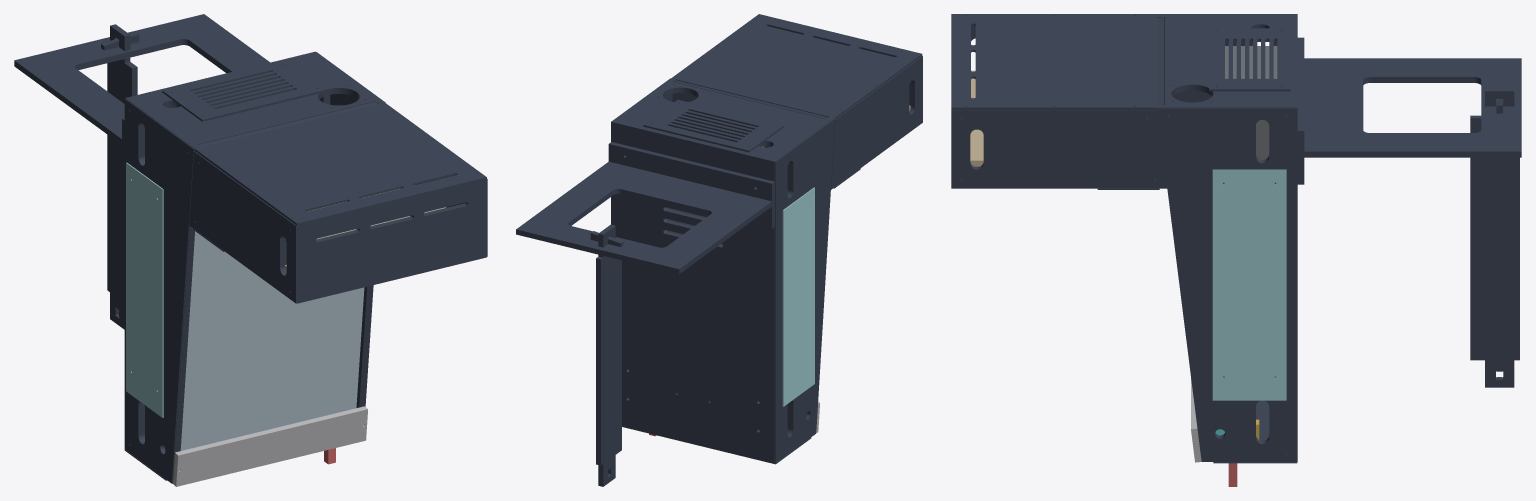
Rendered from cabinet.glb.
3 renders of one model, left to right at view 1: azimuth 30°, elevation 25°; view 2: azimuth 150°, elevation 25°; view 3: azimuth 270°, elevation 25°, orthographic. The views are drawn at different scales.
Visible parts, largest first — view 1: P09 Playfield glass, P25 Backbox back, P21 Backbox top, P30 Skin body side L, P26 Leg frame plate, P16 Side light panel L, P33 Skin backbox side L, P11 Lockbar, P06 Body back, P07 Back service cover, P28 Leg stretcher, P01 Body side L (+5 smaller); view 2: P03 Body floor, P25 Backbox back, P26 Leg frame plate, P30 Skin body side L, P16 Side light panel L, P33 Skin backbox side L, P28 Leg stretcher, P06 Body back, P07 Back service cover, P27 Leg top plate, P01 Body side L, P02 Body side R (+1 smaller); view 3: P31 Skin body side R, P25 Backbox back, P17 Side light panel R, P34 Skin backbox side R, P26 Leg frame plate, P28 Leg stretcher, P06 Body back, P07 Back service cover, Mini-ITX PC (NR200P class, on its side), P02 Body side R, P27 Leg top plate, P01 Body side L (+3 smaller).
Part boxes in pixels (<box>): P09 Playfield glass: <box>180,231,364,450</box>; P25 Backbox back: <box>195,102,486,225</box>; P21 Backbox top: <box>301,181,482,302</box>; P30 Skin body side L: <box>124,98,194,483</box>; P26 Leg frame plate: <box>14,14,269,144</box>; P16 Side light panel L: <box>126,162,163,417</box>; P33 Skin backbox side L: <box>189,151,296,303</box>; P11 Lockbar: <box>173,406,367,486</box>; P06 Body back: <box>134,55,376,144</box>; P07 Back service cover: <box>162,60,325,121</box>; P28 Leg stretcher: <box>107,24,137,329</box>; P01 Body side L: <box>125,96,200,483</box>; P03 Body floor: <box>614,121,772,462</box>; P25 Backbox back: <box>671,14,922,118</box>; P26 Leg frame plate: <box>516,161,771,274</box>; P30 Skin body side L: <box>775,118,834,463</box>; P16 Side light panel L: <box>782,187,814,406</box>; P33 Skin backbox side L: <box>831,56,922,189</box>; P28 Leg stretcher: <box>596,224,621,486</box>; P06 Body back: <box>619,82,825,158</box>; P07 Back service cover: <box>643,99,783,152</box>; P27 Leg top plate: <box>608,142,774,229</box>; P01 Body side L: <box>770,117,834,463</box>; P02 Body side R: <box>611,78,675,236</box>; P31 Skin body side R: <box>1157,108,1297,461</box>; P25 Backbox back: <box>951,14,1157,109</box>; P17 Side light panel R: <box>1212,169,1286,400</box>; P34 Skin backbox side R: <box>951,110,1166,188</box>; P26 Leg frame plate: <box>1304,58,1521,157</box>; P28 Leg stretcher: <box>1470,88,1519,387</box>; P06 Body back: <box>1165,16,1290,105</box>; P07 Back service cover: <box>1209,28,1290,91</box>; Mini-ITX PC (NR200P class, on its side): <box>1225,46,1277,159</box>; P02 Body side R: <box>1157,105,1297,461</box>; P27 Leg top plate: <box>1297,37,1304,184</box>; P01 Body side L: <box>1157,14,1297,102</box>.
Bounding box in the file's own units: 630 × 1161 × 1547.
